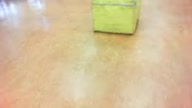cube: (91, 1, 140, 35)
